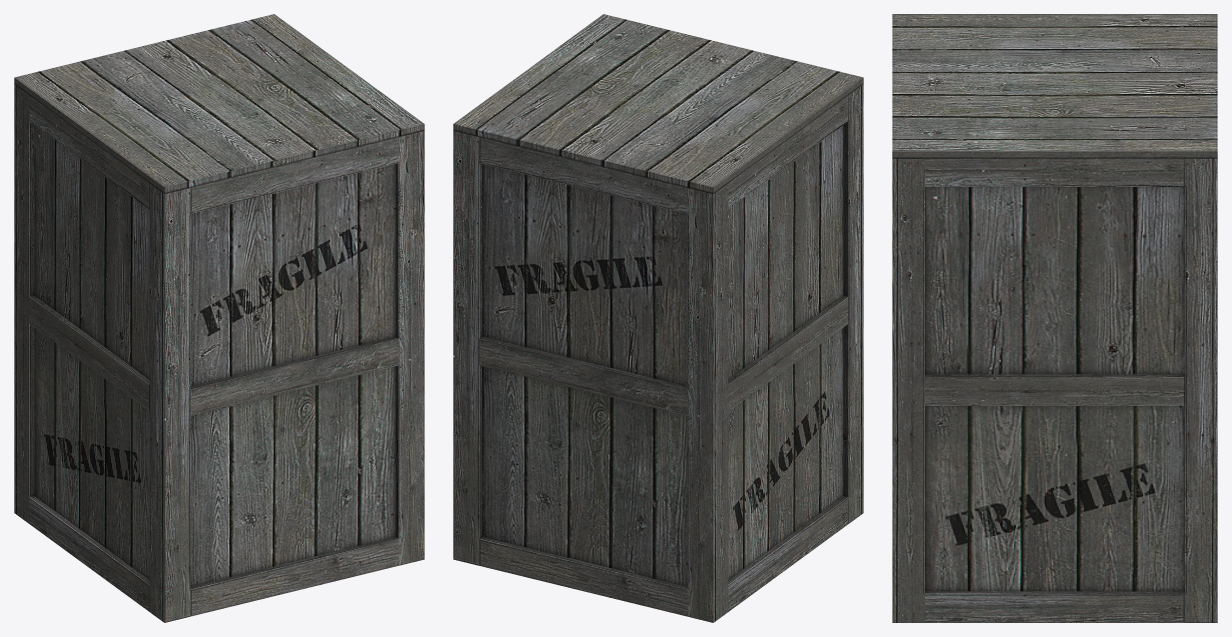
File: crate_large.FBX
3 views of the same model, side by side, from view 1: azimuth 30°, elevation 25°; view 2: azimuth 150°, elevation 25°; view 3: azimuth 270°, elevation 25° (orthographic). The views are drawn at different scales.
Parts seen in each view (by area): view 1: crate_large; view 2: crate_large; view 3: crate_large.
Part boxes in pixels (x1,y1,x2,y2): crate_large: [14, 14, 424, 622]; crate_large: [453, 14, 863, 622]; crate_large: [892, 14, 1217, 622].
Bounding box in the file's own units: 0.5 × 0.8 × 0.5.
1 material, 1 textured.
